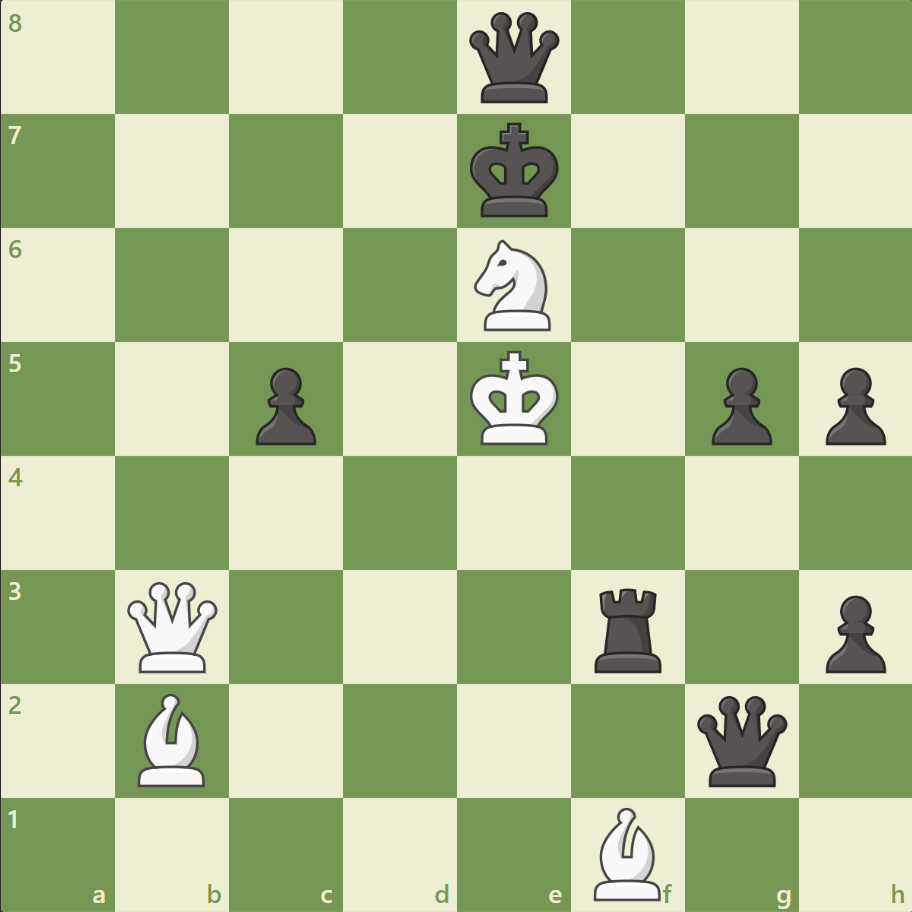B: (131, 687, 215, 790), (585, 801, 669, 904)
K: (465, 344, 565, 452)
N: (465, 234, 562, 337)
Q: (124, 576, 223, 676)
k: (465, 117, 565, 225)
p: (247, 359, 322, 450), (701, 359, 776, 450), (815, 359, 889, 450), (815, 586, 889, 677)
q: (464, 9, 563, 108), (691, 690, 790, 789)
r: (587, 579, 670, 676)
